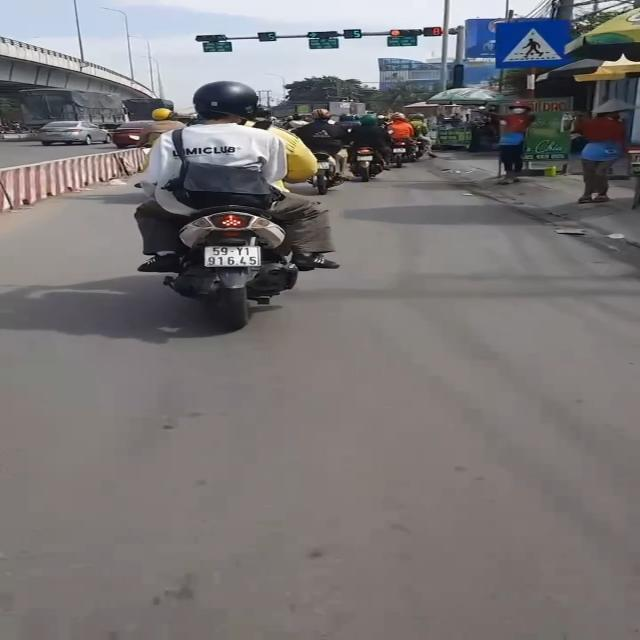224-duong-nguoi-di-bo-cat-ngang: (497, 18, 575, 70)
